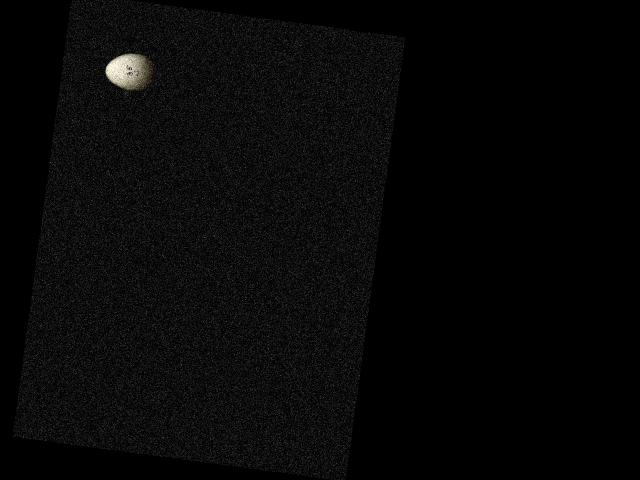egg: (103, 49, 156, 92)
